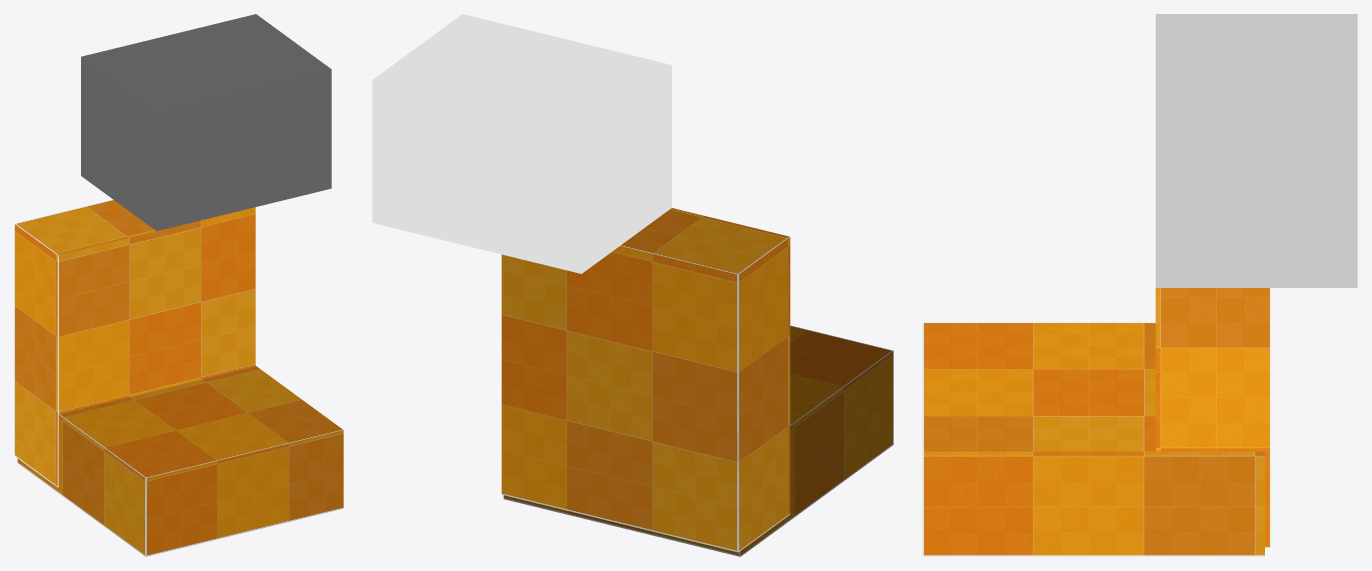
The model's file is groupcircle.dae.
3 renders of one model, left to right at view 1: azimuth 30°, elevation 25°; view 2: azimuth 150°, elevation 25°; view 3: azimuth 270°, elevation 25°, orthographic. The views are drawn at different scales.
Visible parts, largest first — view 1: mesh3%1x3x3%0%, mesh2%upperright%0%, mesh1%1x3x3%0%; view 2: mesh3%1x3x3%0%, mesh2%upperright%0%, mesh1%1x3x3%0%; view 3: mesh1%1x3x3%0%, mesh2%upperright%0%, mesh3%1x3x3%0%.
Boxes of the visible parts, x1,y1,x2,y2 form: mesh3%1x3x3%0%: (14, 199, 255, 487); mesh2%upperright%0%: (81, 14, 331, 231); mesh1%1x3x3%0%: (17, 366, 343, 556); mesh3%1x3x3%0%: (501, 208, 790, 552); mesh2%upperright%0%: (372, 14, 671, 273); mesh1%1x3x3%0%: (503, 325, 893, 556); mesh1%1x3x3%0%: (922, 322, 1264, 556); mesh2%upperright%0%: (1155, 14, 1357, 287); mesh3%1x3x3%0%: (1155, 288, 1271, 548).
Bounding box in the file's own units: 3.1 × 3.86 × 3.19.
